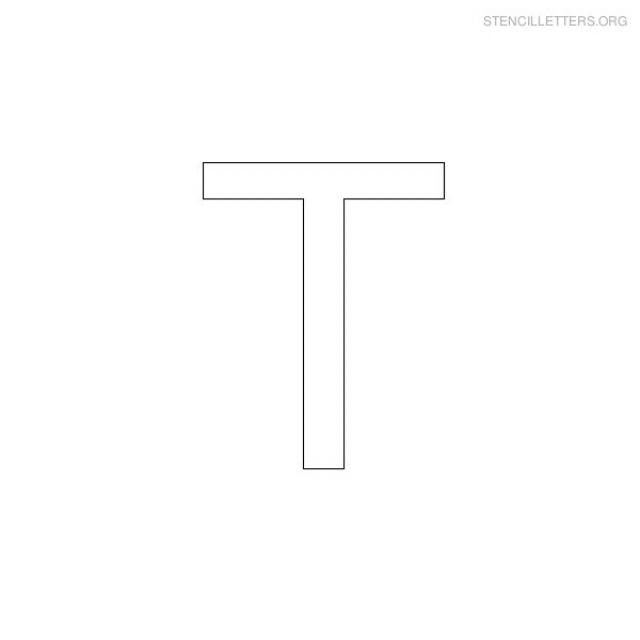T: (144, 127, 480, 507)
